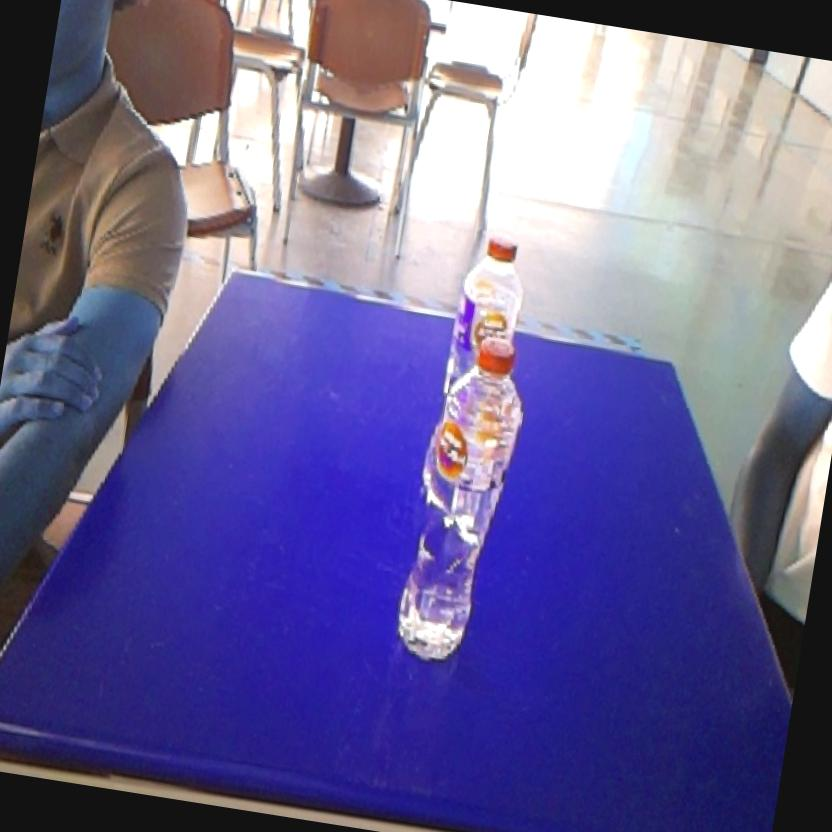good: (382, 319, 536, 677), (442, 213, 544, 346)
